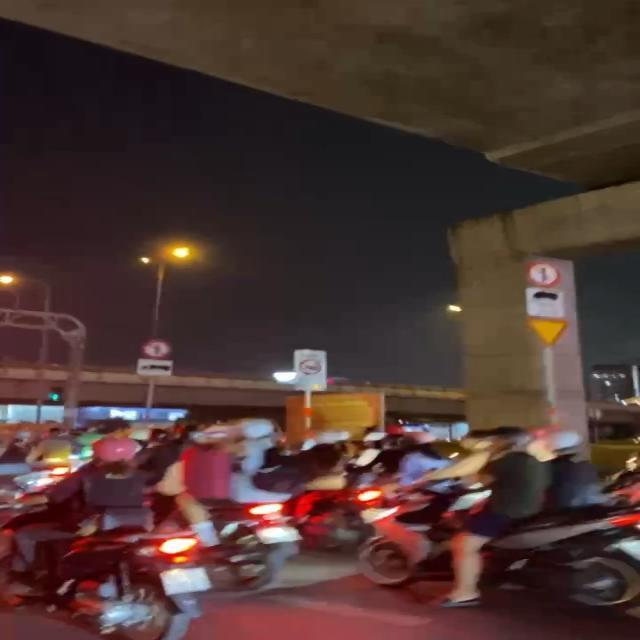136-cam-di-thang: (526, 261, 562, 287), (142, 337, 174, 359)
208-giao-nhau-voi-duong-uu-tien: (527, 316, 569, 346)
